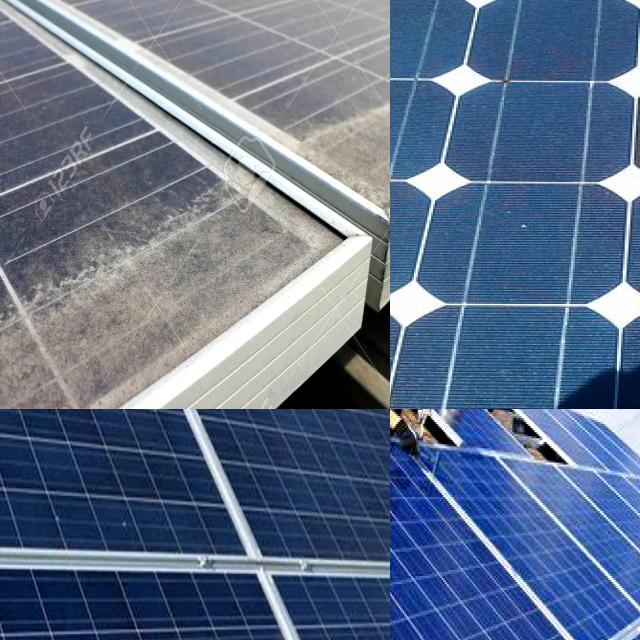crack: (0, 409, 267, 627), (135, 409, 390, 637), (402, 409, 640, 640), (390, 418, 578, 640), (0, 543, 390, 640), (505, 447, 640, 630), (543, 434, 640, 611)
dust: (139, 129, 329, 314), (0, 69, 98, 208), (192, 0, 345, 86), (0, 343, 120, 409), (0, 0, 118, 43), (109, 0, 313, 20)
